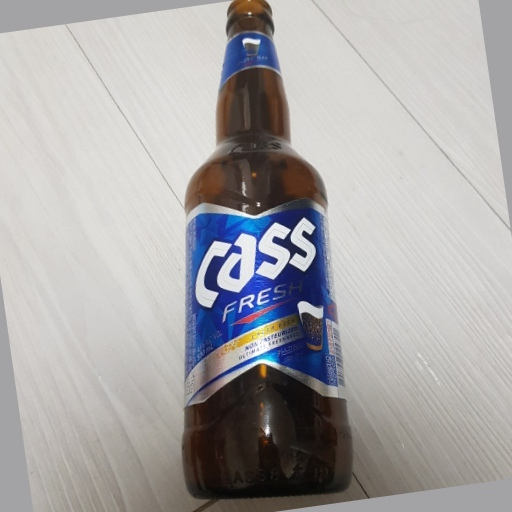Glass_1: (178, 1, 355, 503)
